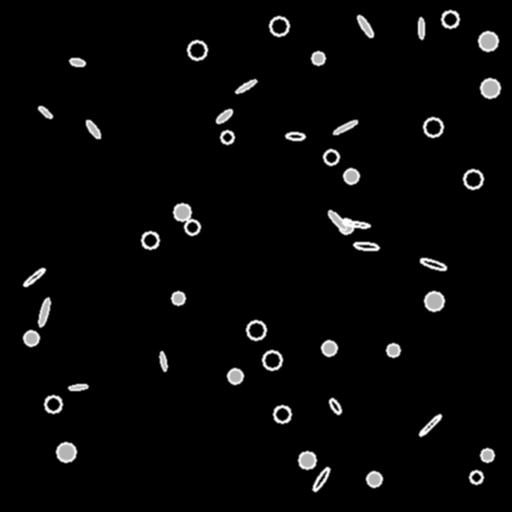pseudomonas: (418, 413, 442, 437), (311, 466, 331, 492), (326, 209, 348, 231), (22, 267, 46, 287), (332, 118, 358, 136), (356, 14, 374, 38), (37, 297, 51, 327), (420, 257, 446, 271), (84, 119, 102, 139), (235, 78, 257, 94), (215, 108, 233, 124), (353, 241, 379, 251), (37, 105, 53, 119), (328, 398, 342, 414), (343, 220, 369, 228), (69, 383, 87, 391), (159, 352, 167, 370), (69, 58, 85, 66), (285, 133, 305, 139), (418, 18, 424, 38)
synechocystis: (270, 17, 288, 35), (481, 79, 499, 97), (57, 443, 75, 461), (263, 351, 281, 369), (424, 118, 442, 136), (188, 41, 206, 59), (425, 292, 443, 310), (247, 321, 265, 339), (479, 32, 497, 50), (464, 170, 482, 188), (45, 396, 61, 412), (142, 232, 158, 248), (174, 204, 190, 220), (442, 11, 458, 27), (299, 452, 315, 468), (274, 406, 290, 422), (324, 150, 338, 164), (367, 472, 381, 486), (185, 220, 199, 234), (322, 341, 336, 355), (344, 169, 358, 183), (339, 219, 353, 233), (228, 369, 242, 383), (24, 331, 38, 345), (387, 344, 399, 356), (221, 131, 233, 143), (172, 292, 184, 304), (470, 471, 482, 483), (481, 449, 493, 461), (312, 52, 324, 64)
